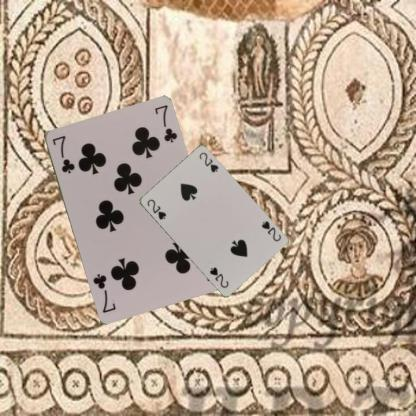2s: (144, 196, 168, 221), (259, 218, 282, 243)
7c: (49, 133, 76, 175)
